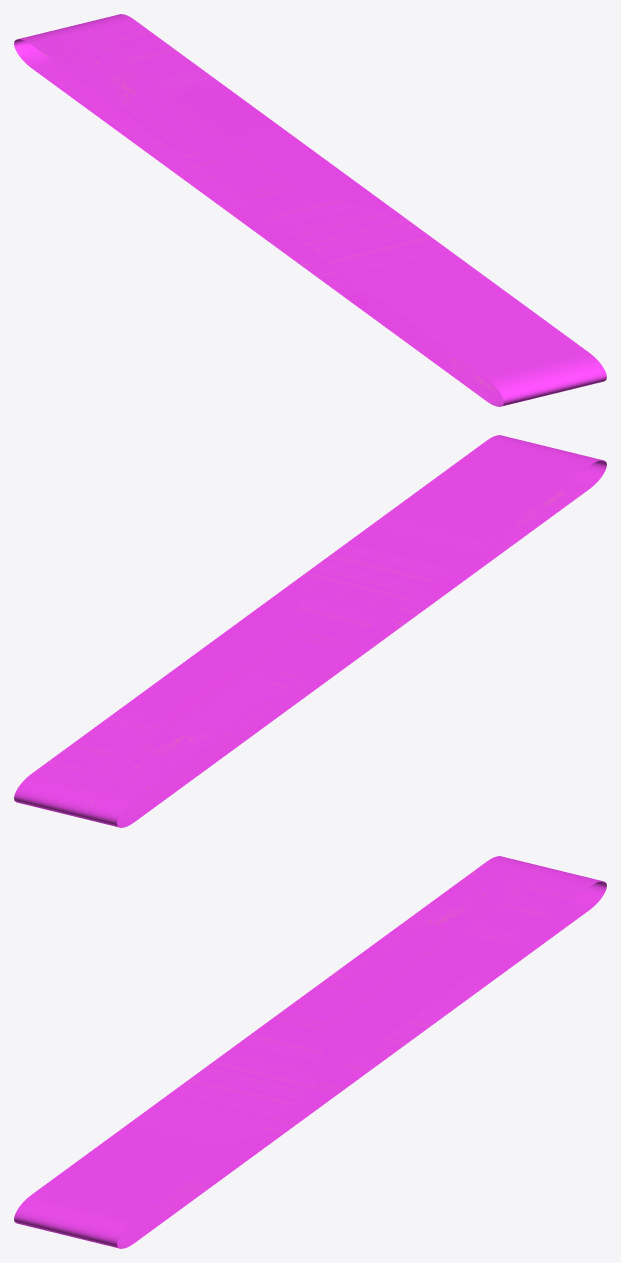
The model's file is frameconveyor.obj.
3 views of the same model, one above another, from view 1: azimuth 30°, elevation 25°; view 2: azimuth 150°, elevation 25°; view 3: azimuth 330°, elevation 25° (orthographic).
Visible parts, largest first — view 1: Conveyor01Belt_Belt_0; view 2: Conveyor01Belt_Belt_0; view 3: Conveyor01Belt_Belt_0.
Boxes of the visible parts, left/top/right/bottom form: Conveyor01Belt_Belt_0: left=14, top=14, right=606, bottom=406; Conveyor01Belt_Belt_0: left=14, top=435, right=606, bottom=827; Conveyor01Belt_Belt_0: left=14, top=856, right=606, bottom=1248.
Bounding box in the file's own units: 7.46 × 1.61 × 61.45.
